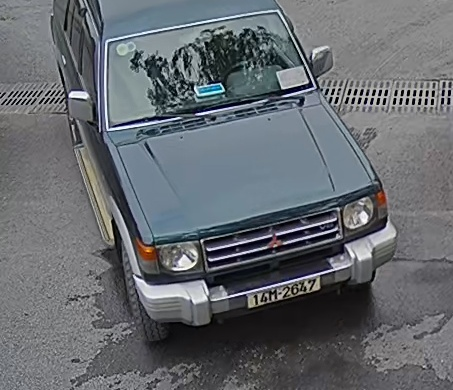vehicle plate: (247, 274, 324, 310)
